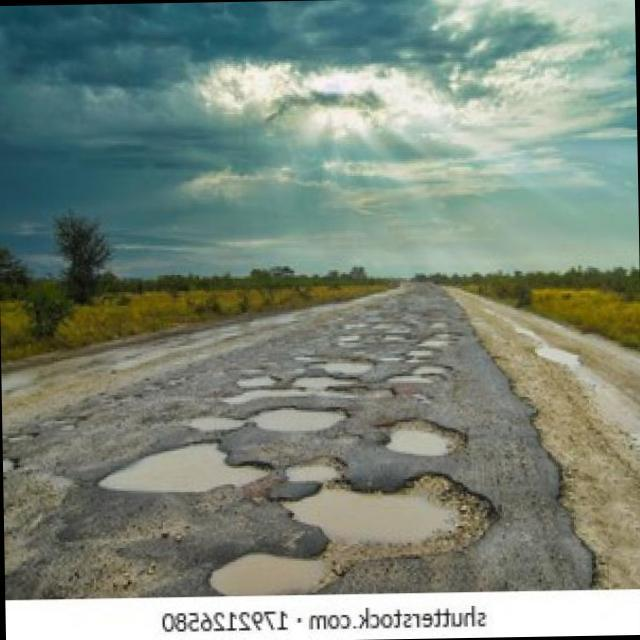Pothole: (208, 476, 491, 596), (188, 362, 450, 430), (98, 443, 266, 491), (388, 419, 466, 457)
